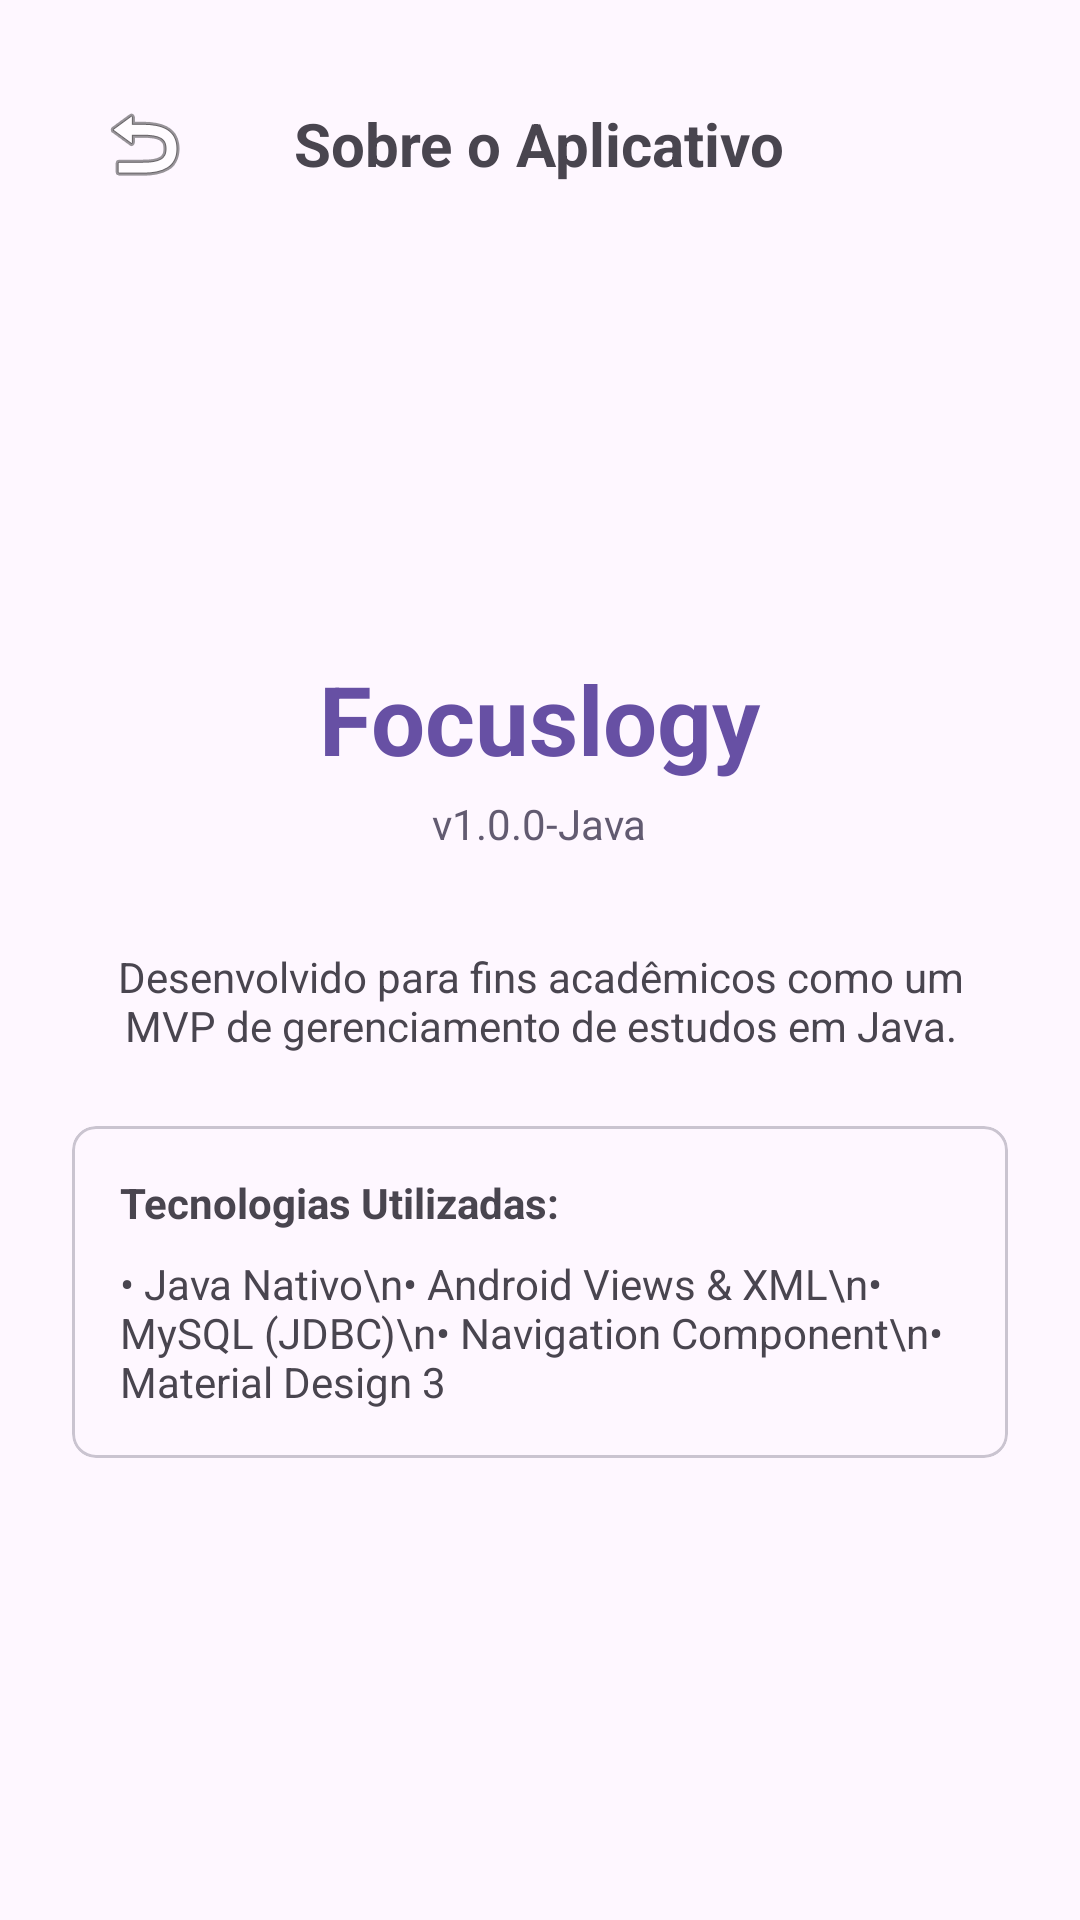

Where to tap for icons on this 1080w x 1920h app screen, as (x,y):
Voltar: (145,144)
